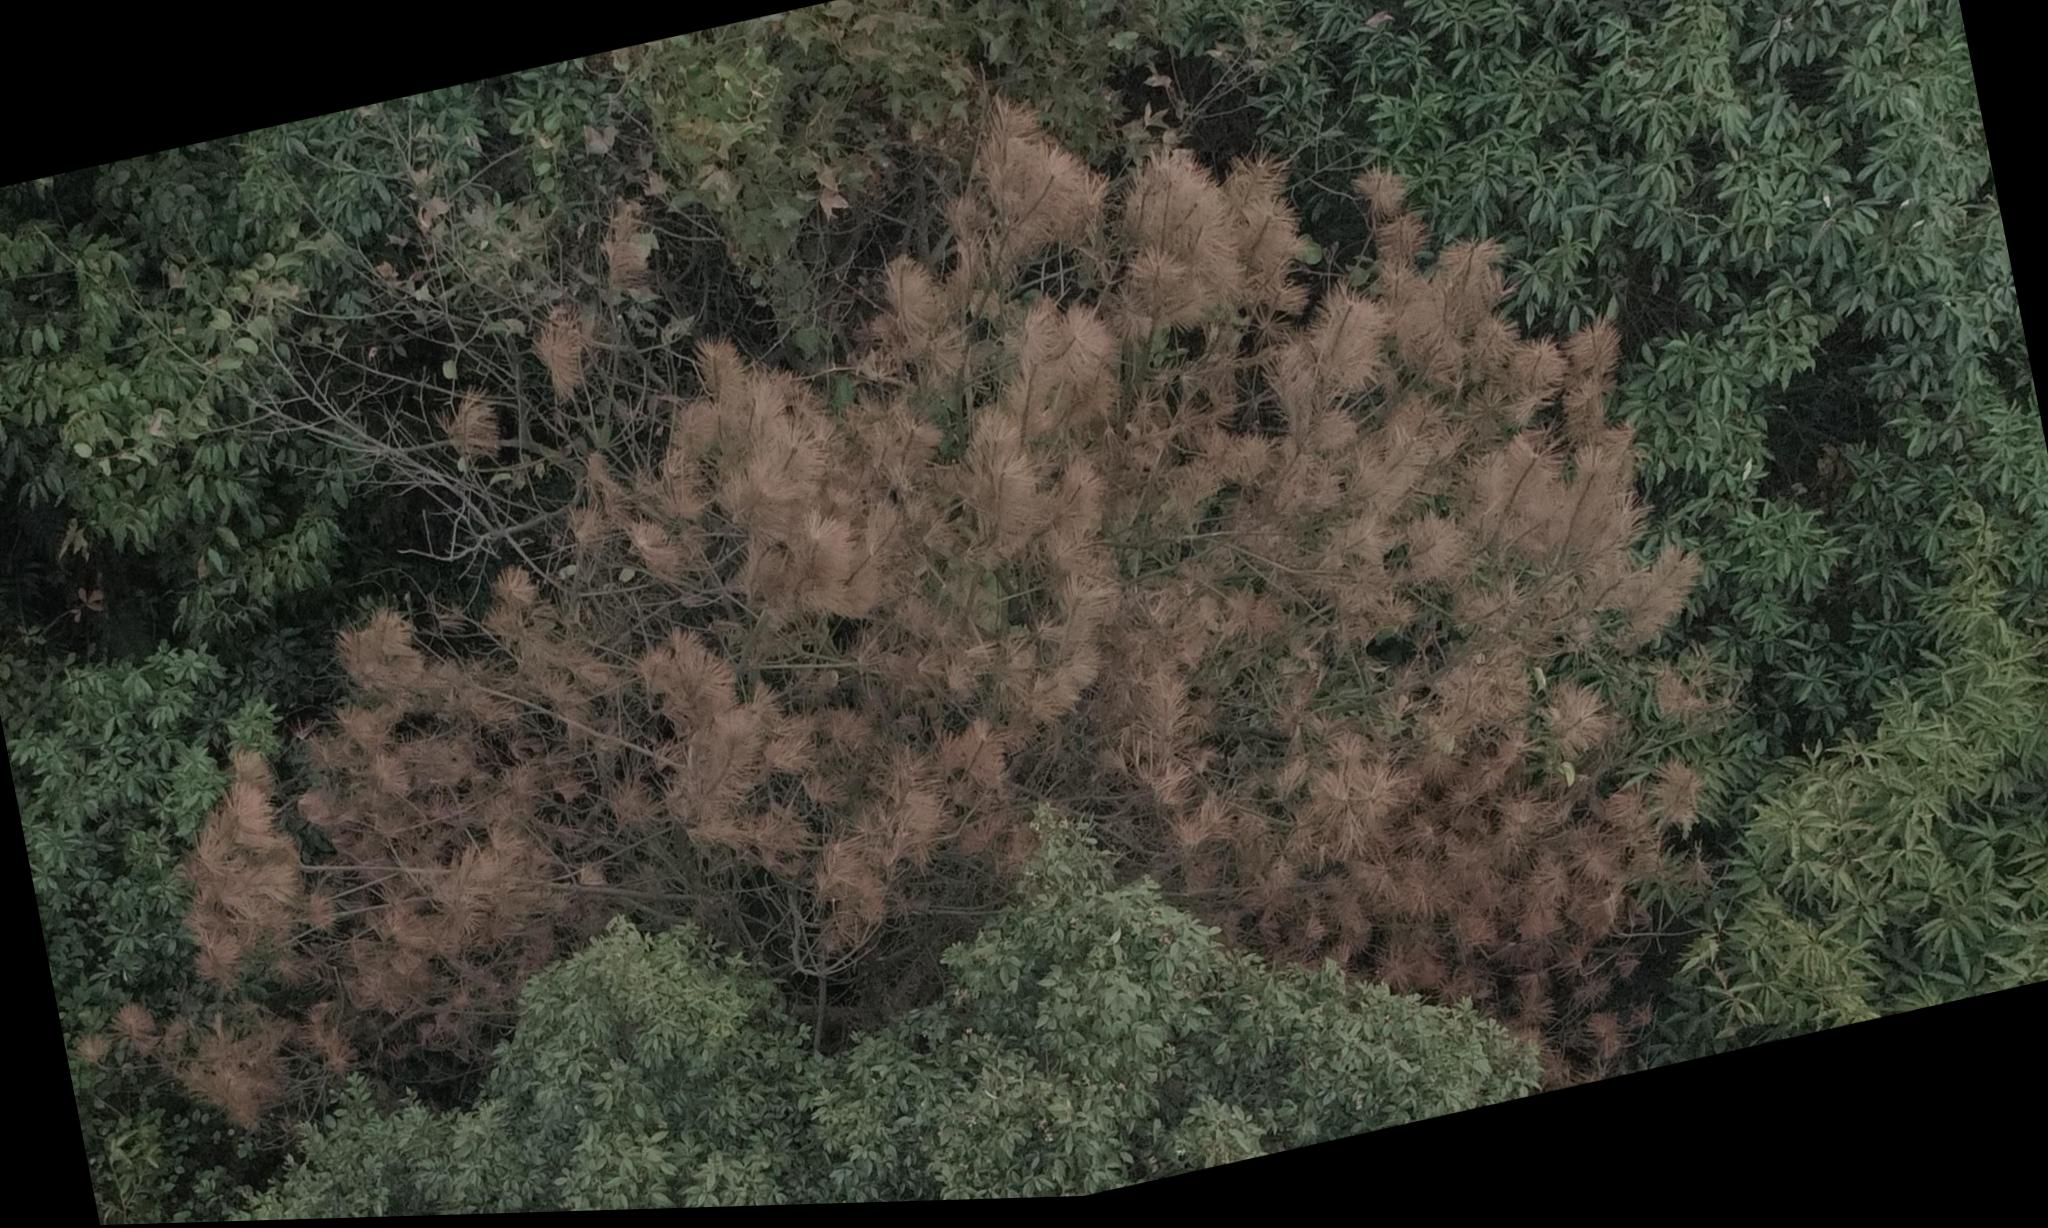heavy: (23, 29, 1778, 1228)
